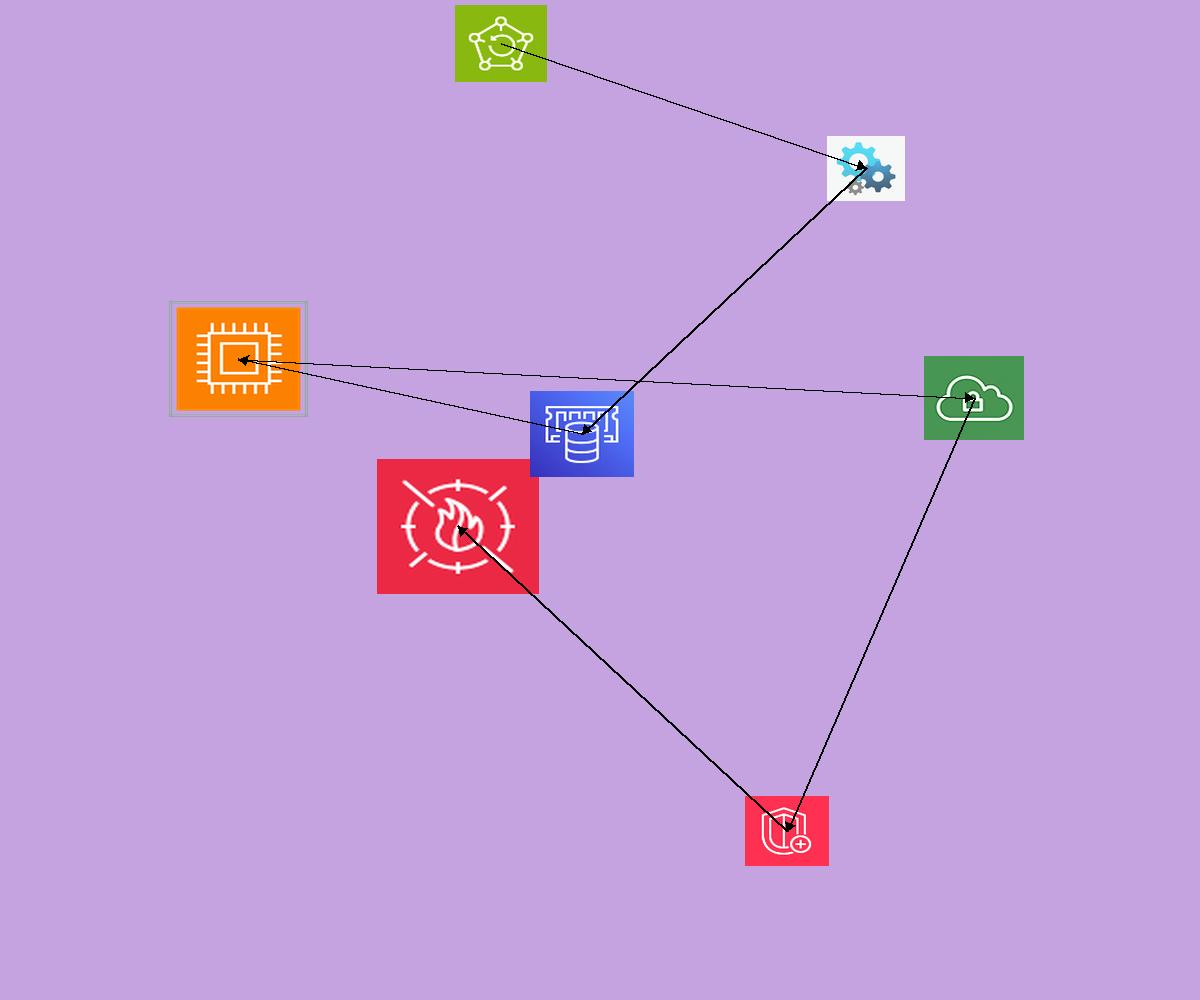AWS-Backup: (455, 5, 547, 82)
AWS-Category_Compute: (169, 301, 308, 417)
AWS-ElastiCache: (530, 391, 634, 477)
AWS-Private_vpc: (924, 356, 1024, 440)
AWS-Shield: (745, 796, 829, 866)
AWS-WAF: (377, 459, 539, 594)
Azure_api: (827, 136, 905, 201)
